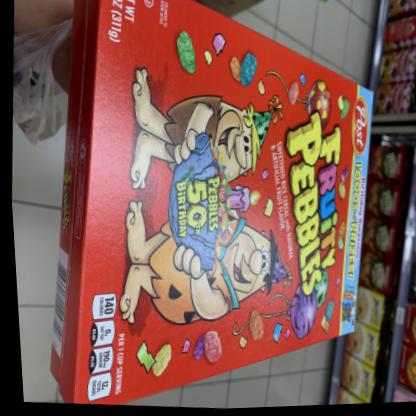cereal box: (24, 0, 398, 414)
